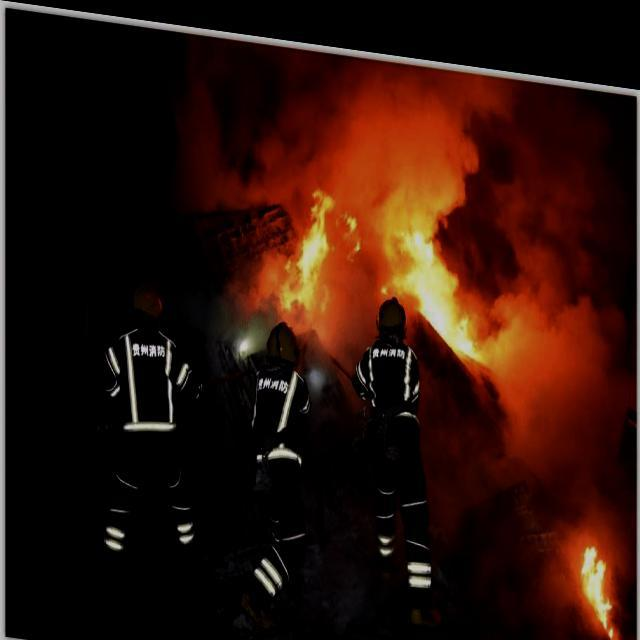Fire: (386, 190, 494, 358), (274, 174, 338, 312), (574, 521, 628, 640)
